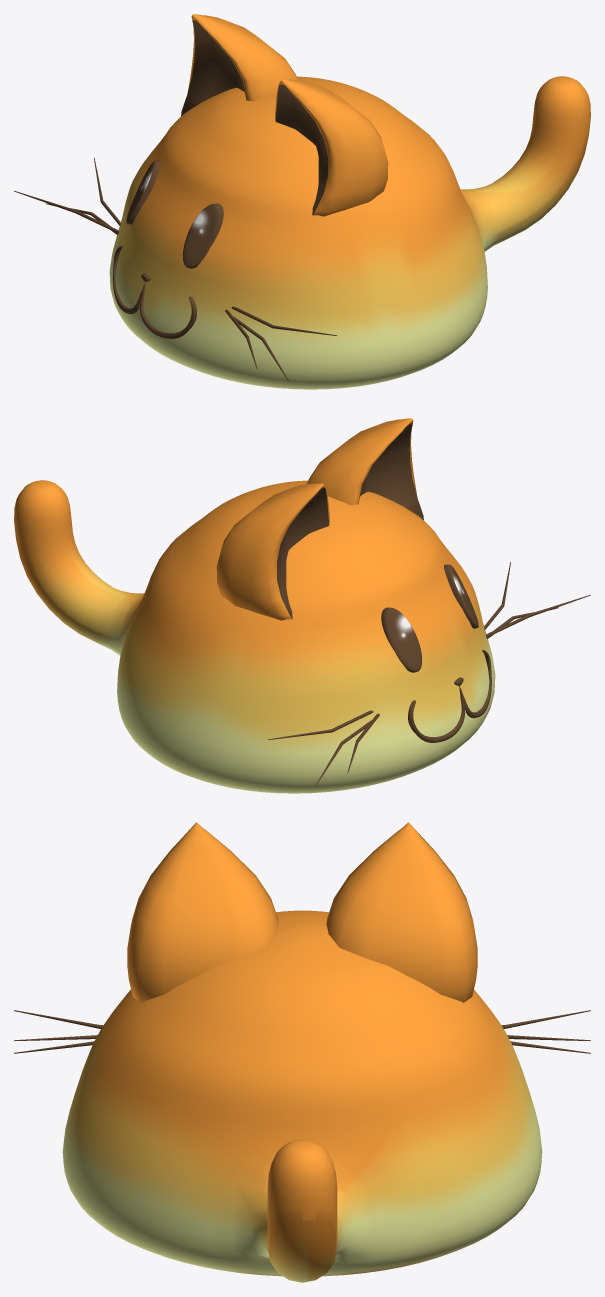
Rendered from cat.glb.
The picture shows the model from 3 angles, top to bottom: view 1: azimuth 30°, elevation 25°; view 2: azimuth 150°, elevation 25°; view 3: azimuth 270°, elevation 25°; orthographic projection. The views are drawn at different scales.
Parts seen in each view (by area): view 1: PanGato_0, Orejas_4, ojos_1, Cilindro_2, boca_3; view 2: PanGato_0, Orejas_4, ojos_1, Cilindro_2, boca_3; view 3: PanGato_0, Orejas_4, Cilindro_2.
Part boxes in pixels (x1,y1,x2,y2): PanGato_0: (109, 76, 590, 389); Orejas_4: (181, 14, 388, 216); ojos_1: (126, 160, 223, 268); Cilindro_2: (14, 157, 337, 381); boca_3: (113, 246, 196, 338); PanGato_0: (14, 480, 495, 793); Orejas_4: (216, 418, 423, 620); ojos_1: (381, 564, 478, 672); Cilindro_2: (267, 561, 590, 785); boca_3: (408, 650, 491, 742); PanGato_0: (62, 910, 542, 1282); Orejas_4: (127, 822, 477, 1002); Cilindro_2: (14, 1010, 590, 1053).
Bounding box in the file's own units: 2.13 × 1.32 × 1.98.
Materials: 1 (1 with a texture image).
